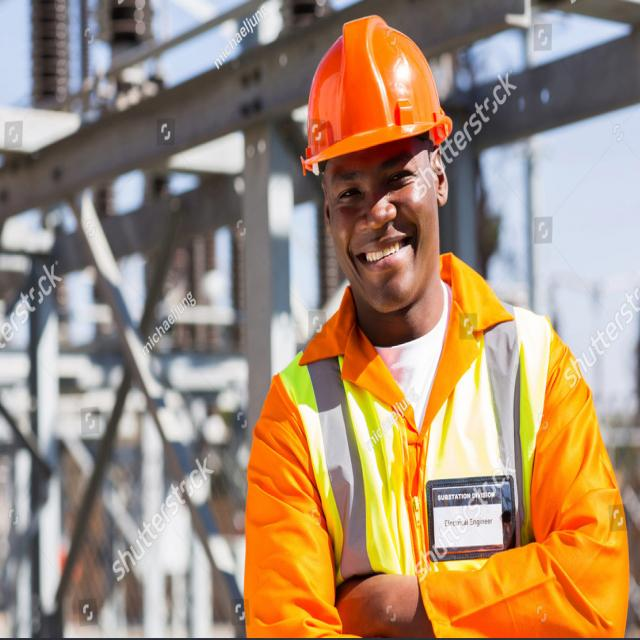Reflective-Jacket: (270, 273, 573, 633)
Safety-Helmet: (299, 12, 451, 172)
